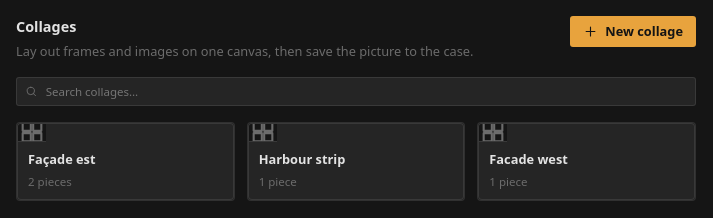
Scenario: finding and leaving a collage › narrows the list to the names holding every word, whatever their accents
Type "FACADE" into the field named "Search collages…".
click(365, 91); type("FACADE")  # box [44,82,687,101]
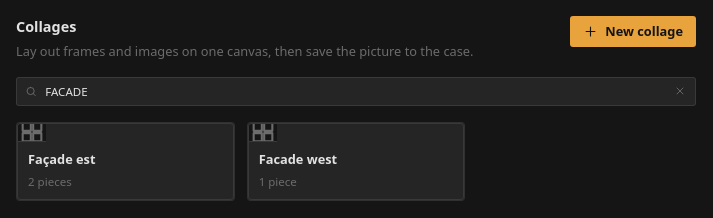
Replace the text in the field named "Search collages…" with "façade west" at (355, 91), box [43,82,667,101]
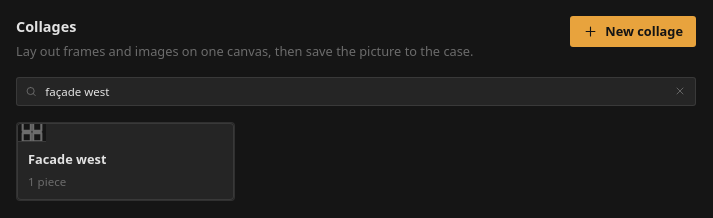
Replace the text in the field named "Search collages…" with "quay" at (355, 91), box [43,82,667,101]
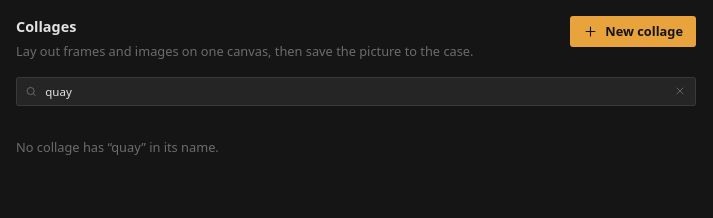
Check: the text "No collage has “quay” in its name." is shown, box [16,138,219,156]
